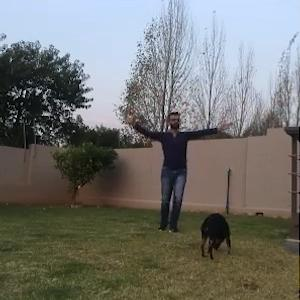takeoff: (126, 93, 241, 239)
